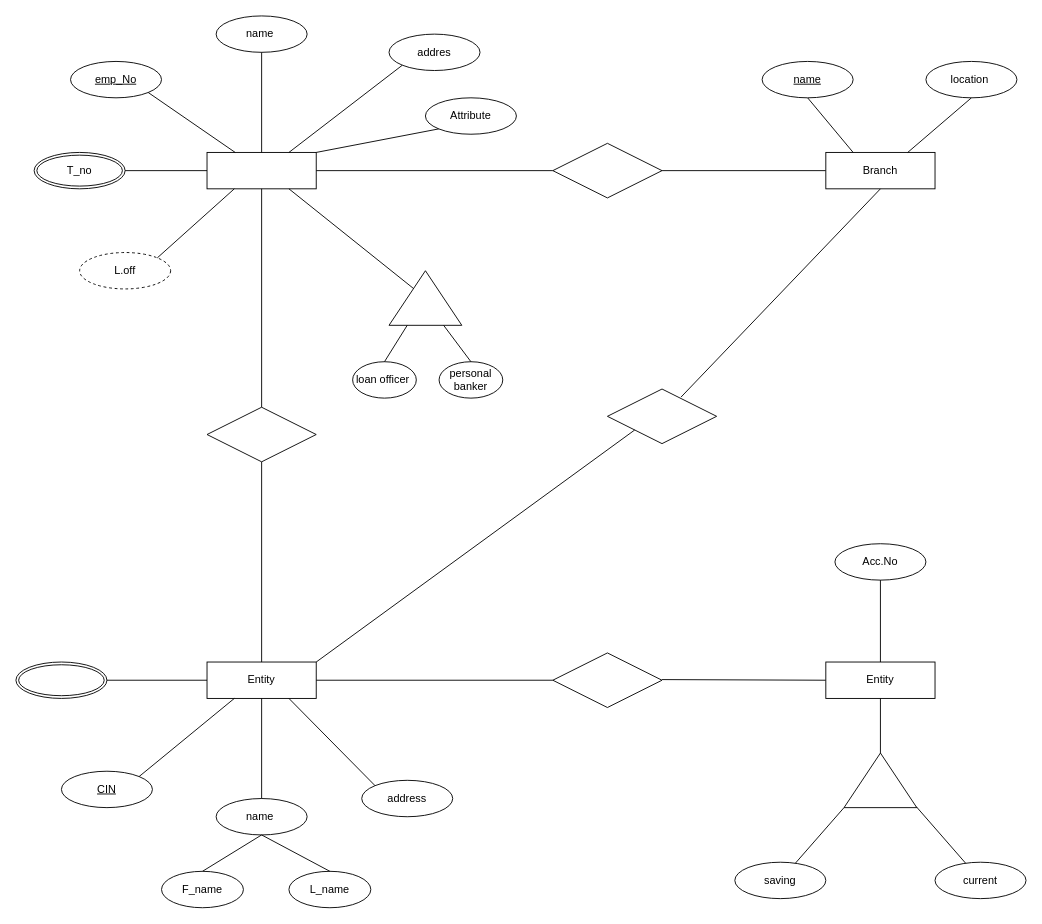
Some shapes in this 1042 by 924 pixel diagram are drawn without their labels. The shapes that lost their labels are listed below. From the top down, each one's centre as x and y in pixels, then its label:
At [261,170]: "employee".
At [607,170]: "work_on".
At [425,297]: "IAS".
At [261,434]: "Assosate".
At [662,416]: "Relationship".
At [61,679]: "T.No".
At [607,680]: "have".
At [880,780]: "is a".
